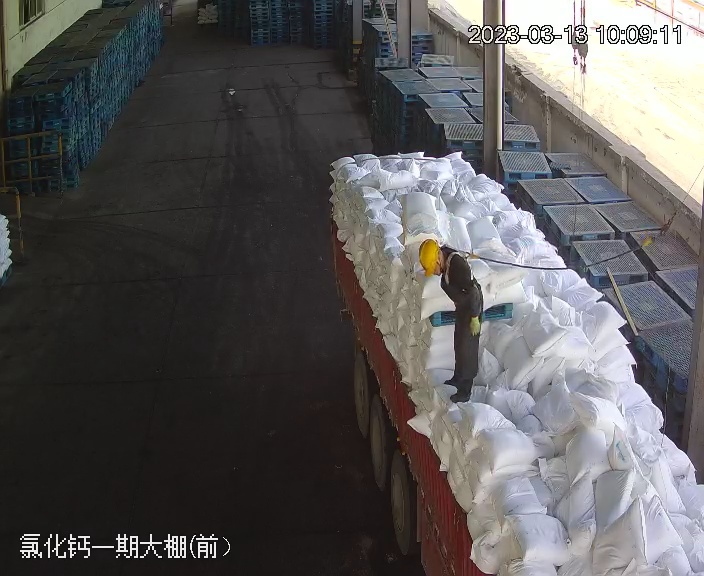belt: (439, 245, 477, 290)
head: (418, 239, 473, 286)
helmet: (418, 239, 441, 276)
people: (418, 242, 484, 404)
truck: (311, 144, 696, 576)
